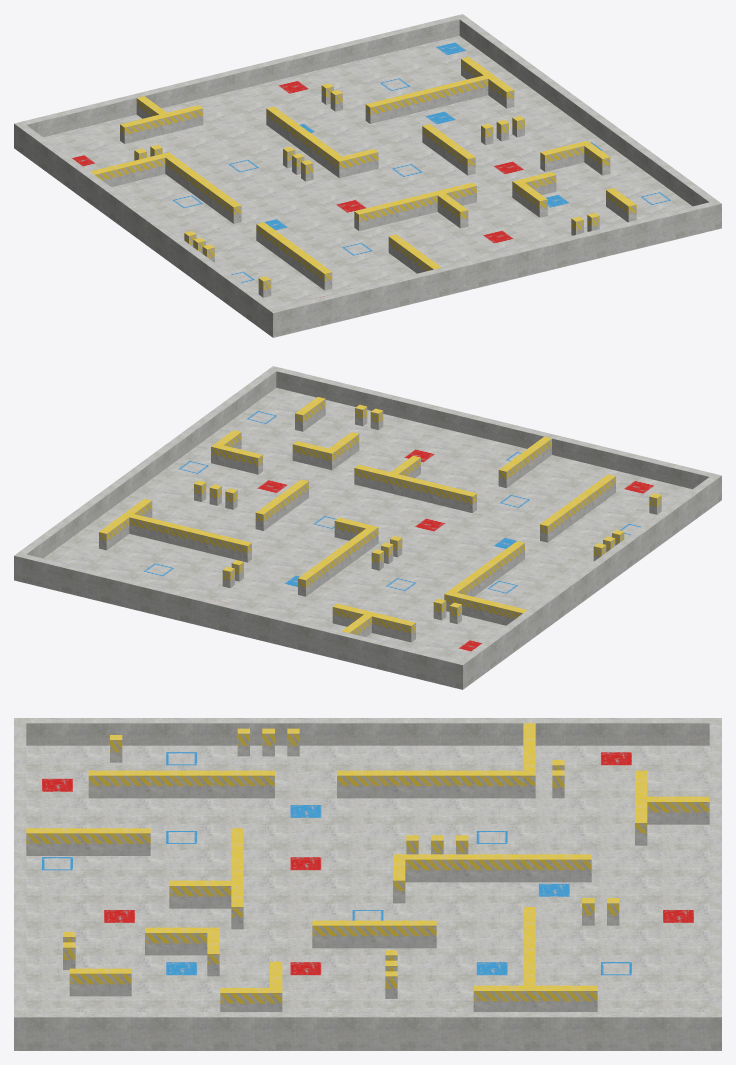
The model's file is bach_sc.dae.
3 renders of one model, top to bottom at view 1: azimuth 30°, elevation 25°; view 2: azimuth 150°, elevation 25°; view 3: azimuth 270°, elevation 25°, orthographic. The views are drawn at different scales.
Parts seen in each view (by area): view 1: floor_11_1m_size, wall_01, wall_03, wall_04, wall_02, 10x02_wall.032, 10x02_wall.020, 10x02_wall.015, 10x02_wall.013, 10x02_wall.021, 10x02_wall.022, 10x02_wall.011 (+23 smaller); view 2: floor_11_1m_size, wall_03, wall_01, wall_04, wall_02, 10x02_wall.030, 10x02_wall.032, 10x02_wall.020, 10x02_wall.021, 10x02_wall.013, 10x02_wall.024, 10x02_wall.023 (+21 smaller); view 3: floor_11_1m_size, wall_02, wall_04, wall_01, wall_03, 10x02_wall.027, 10x02_wall.019, 10x02_wall.017, 10x02_wall.018, 10x02_wall.016, 10x02_wall.014, 10x02_wall.033 (+18 smaller).
Boxes of the visible parts, left/top/right/bottom form: floor_11_1m_size: left=44, top=36, right=692, bottom=307; wall_01: left=277, top=200, right=721, bottom=335; wall_03: left=14, top=16, right=459, bottom=151; wall_04: left=18, top=125, right=280, bottom=337; wall_02: left=455, top=14, right=716, bottom=206; 10x02_wall.032: left=540, top=142, right=584, bottom=171; 10x02_wall.020: left=365, top=94, right=409, bottom=123; 10x02_wall.015: left=334, top=149, right=378, bottom=178; 10x02_wall.013: left=354, top=201, right=398, bottom=230; 10x02_wall.021: left=120, top=114, right=163, bottom=143; 10x02_wall.022: left=160, top=105, right=203, bottom=134; 10x02_wall.011: left=394, top=192, right=437, bottom=221; floor_11_1m_size: left=43, top=388, right=691, bottom=659; wall_03: left=22, top=554, right=467, bottom=689; wall_01: left=269, top=366, right=713, bottom=489; wall_04: left=460, top=473, right=721, bottom=686; wall_02: left=14, top=369, right=276, bottom=582; 10x02_wall.030: left=292, top=441, right=336, bottom=470; 10x02_wall.032: left=219, top=445, right=262, bottom=474; 10x02_wall.020: left=208, top=533, right=251, bottom=562; 10x02_wall.021: left=372, top=613, right=415, bottom=642; 10x02_wall.013: left=433, top=484, right=476, bottom=512; 10x02_wall.024: left=168, top=523, right=212, bottom=552; 10x02_wall.023: left=129, top=514, right=172, bottom=543; floor_11_1m_size: left=26, top=745, right=709, bottom=1011; wall_02: left=26, top=1012, right=721, bottom=1050; wall_04: left=14, top=718, right=709, bottom=745; wall_01: left=14, top=723, right=26, bottom=1050; wall_03: left=709, top=718, right=721, bottom=1011; 10x02_wall.027: left=374, top=920, right=436, bottom=948; 10x02_wall.019: left=647, top=796, right=709, bottom=824; 10x02_wall.017: left=529, top=854, right=591, bottom=882; 10x02_wall.018: left=467, top=854, right=529, bottom=882; 10x02_wall.016: left=405, top=854, right=467, bottom=882; 10x02_wall.014: left=169, top=880, right=231, bottom=908; 10x02_wall.033: left=69, top=968, right=131, bottom=996.
Size of the model in its own units: 11.4 by 11.4 by 0.6.
